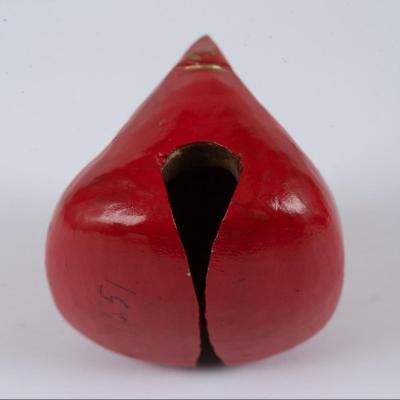other: (43, 34, 346, 370)
